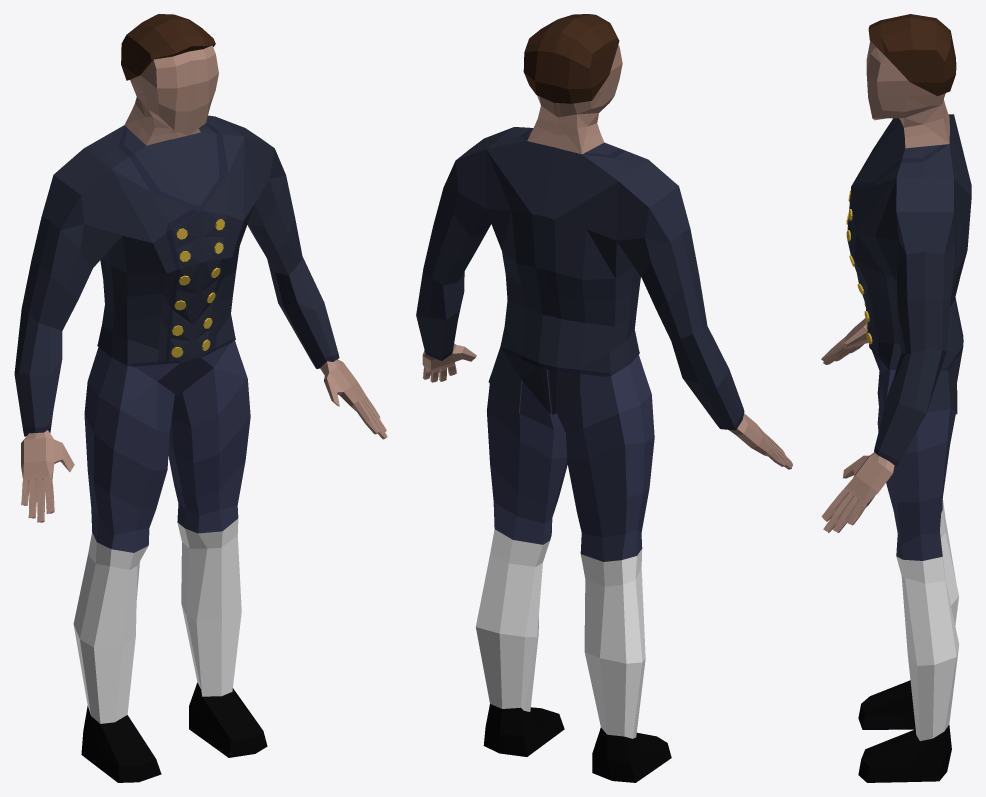
Rendered from Man.fbx.
The picture shows the model from 3 angles, left to right: view 1: azimuth 30°, elevation 25°; view 2: azimuth 150°, elevation 25°; view 3: azimuth 270°, elevation 25°; orthographic projection.
Parts seen in each view (by area): view 1: Man; view 2: Man; view 3: Man.
Part boxes in pixels (box(x1,y1,x2,y2)): Man: box(14, 14, 387, 782); Man: box(416, 14, 792, 782); Man: box(821, 14, 971, 782).
Size of the model in its own units: 246 by 478 by 89.34.
